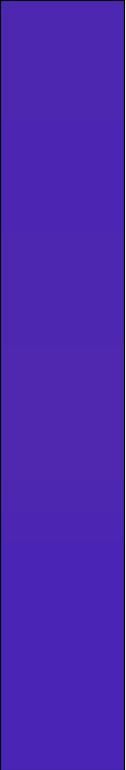safe: (8, 10, 119, 762)
